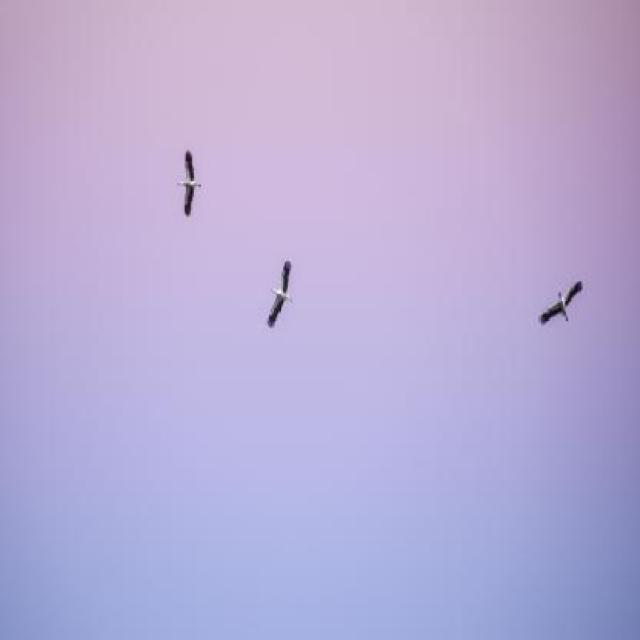bird: (540, 281, 582, 328), (266, 258, 294, 327), (176, 152, 202, 218)
